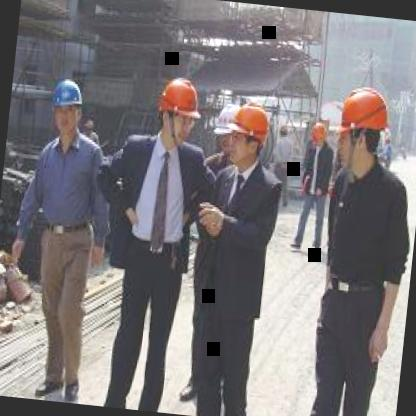helmet: (336, 85, 392, 178), (154, 71, 205, 145), (227, 102, 274, 170), (46, 74, 88, 140), (208, 96, 240, 160), (308, 118, 330, 152)
